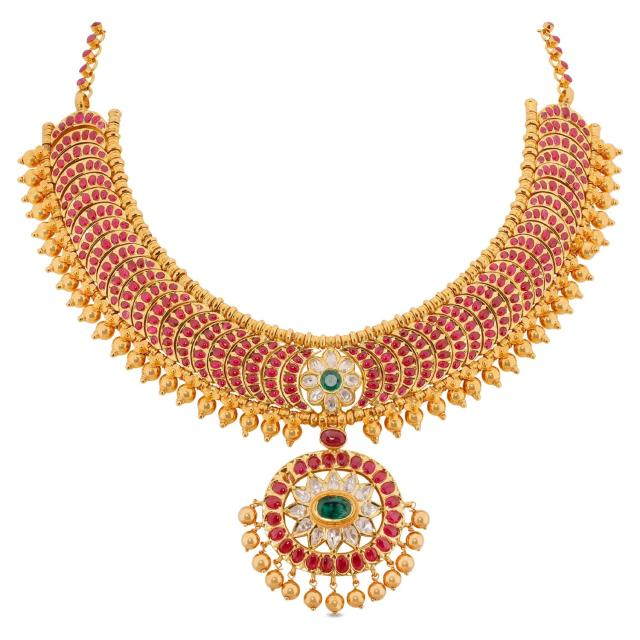missing gem: (279, 469, 295, 484), (195, 304, 203, 311)
